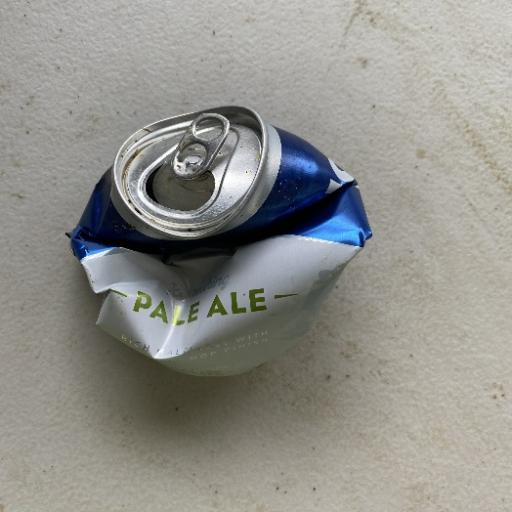Metal: (64, 103, 374, 378)
